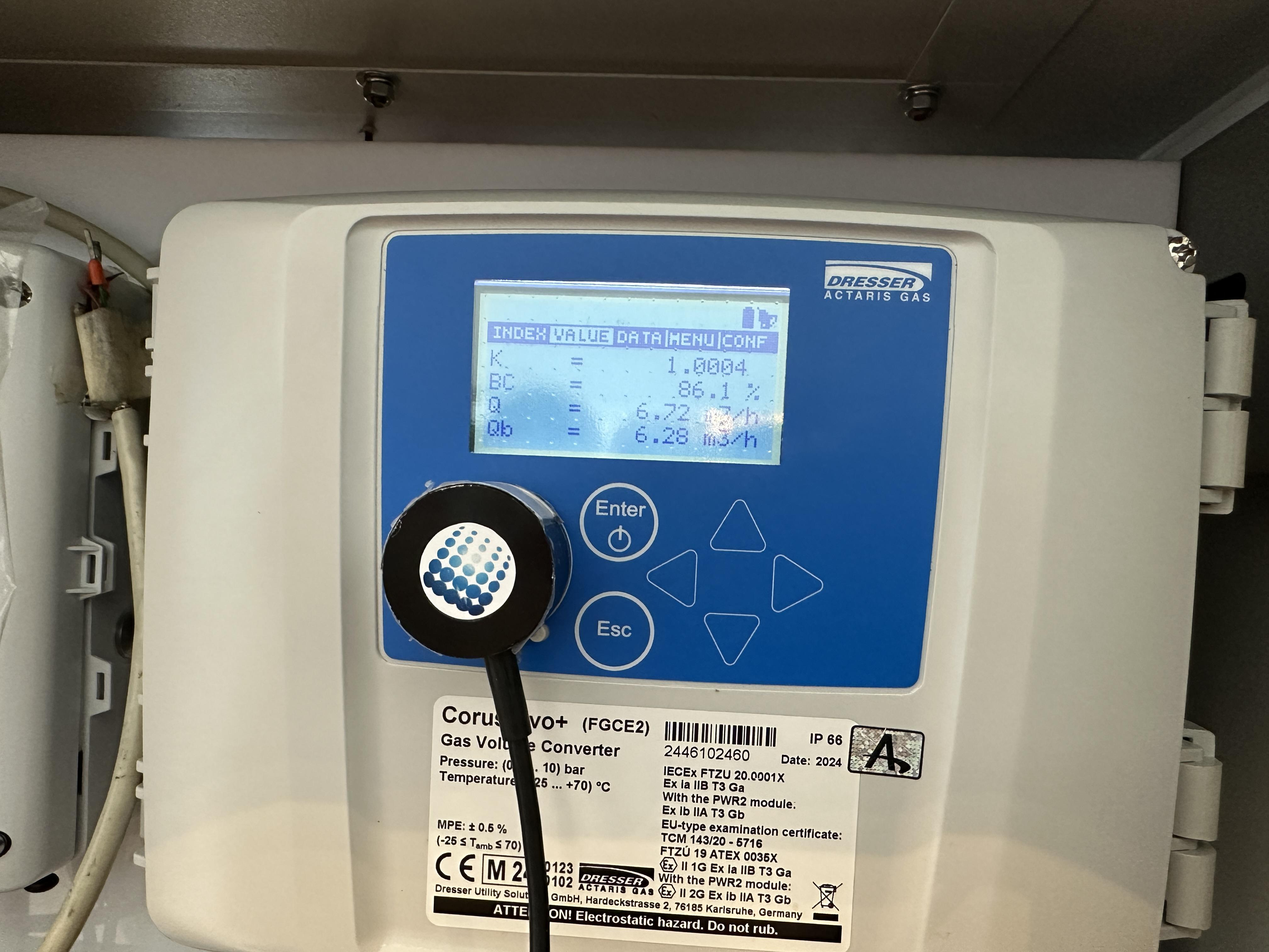digital_screen: (474, 293, 790, 464)
